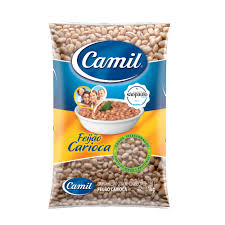feijão: (45, 21, 173, 209)
